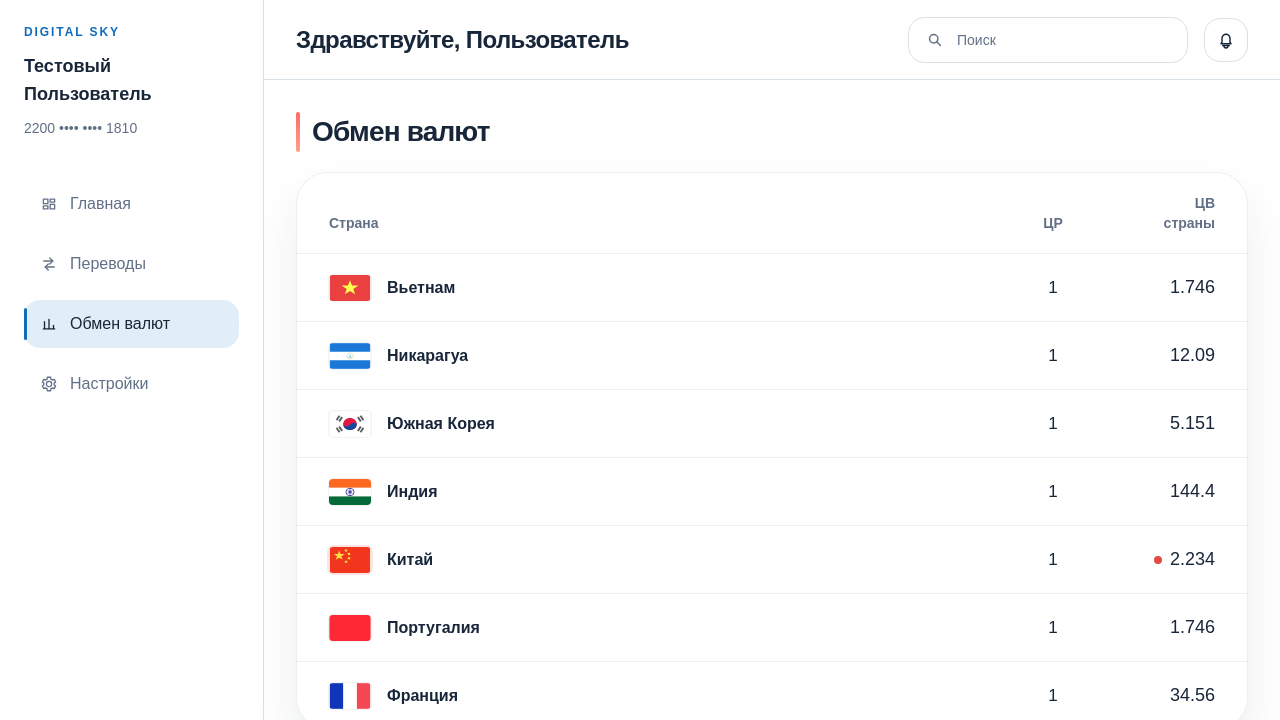
RatesPage › navigates to the exchange flow when a rate row is clicked
Click the link "Китай 1 2.234".
click(350, 560)  # box [297,526,1247,594]
(page scrolled)
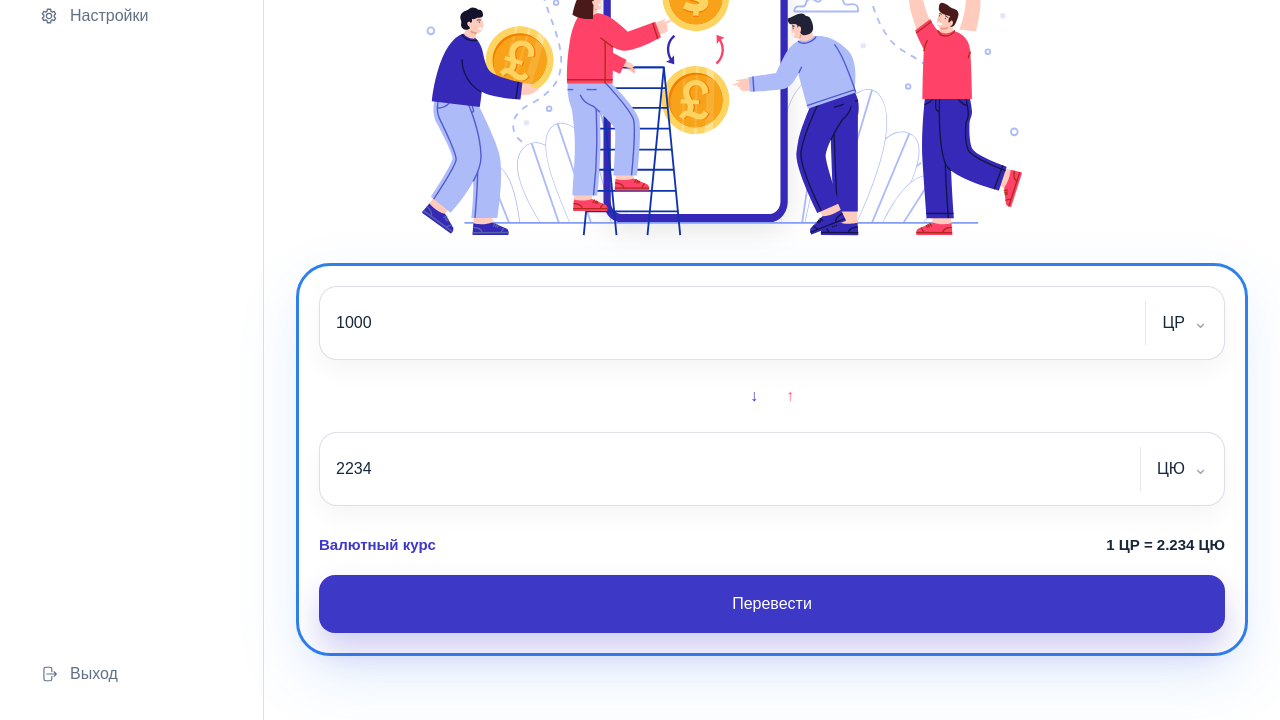
Check: the field showing "1000" is shown, box [336,311,1129,335]
Check: the field showing "2234" is shown, box [336,457,1124,481]
